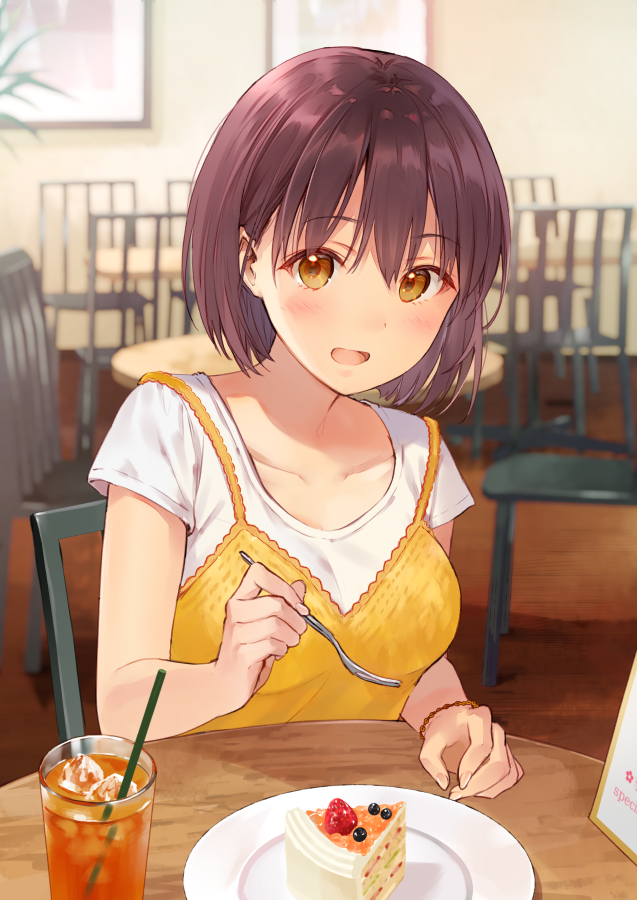纸片人正脸: (181, 43, 514, 408)
